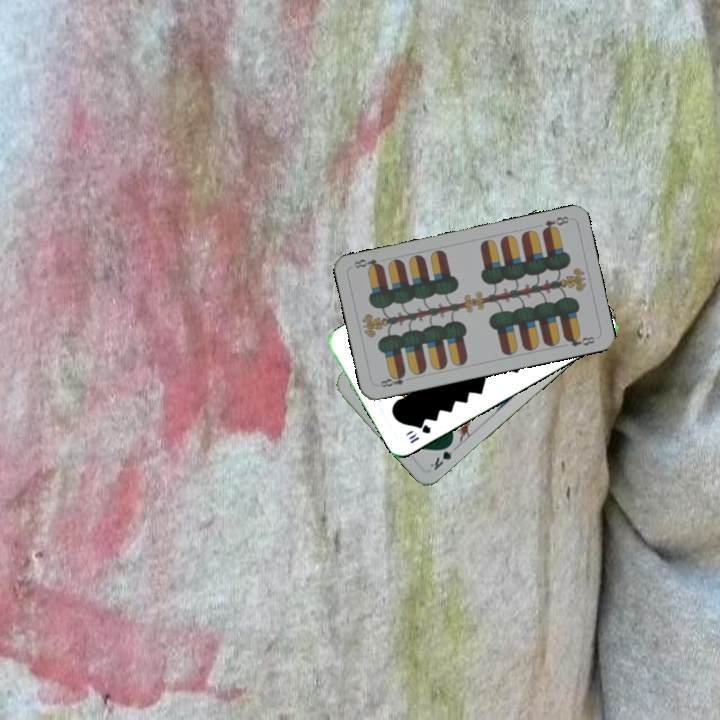E8: (538, 212, 572, 235), (374, 369, 408, 390)
G10: (405, 420, 433, 446)
GK: (425, 438, 460, 473)
